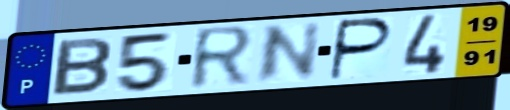4: (402, 12, 449, 77)
5: (112, 29, 181, 94)
B: (49, 36, 115, 98)
N: (252, 20, 324, 87)
P: (326, 16, 396, 83)
R: (187, 23, 259, 93)
